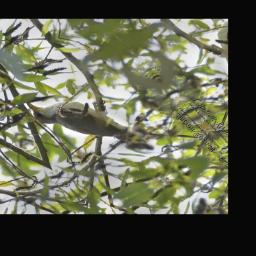Cuckoo: (20, 57, 198, 185)
